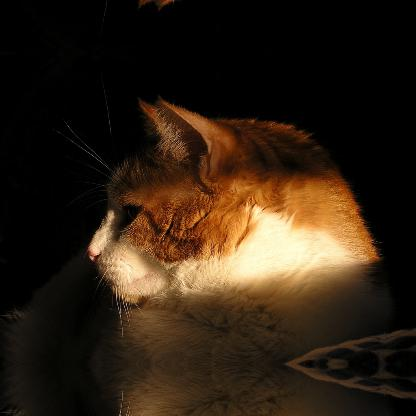Cat: (53, 88, 407, 362)
